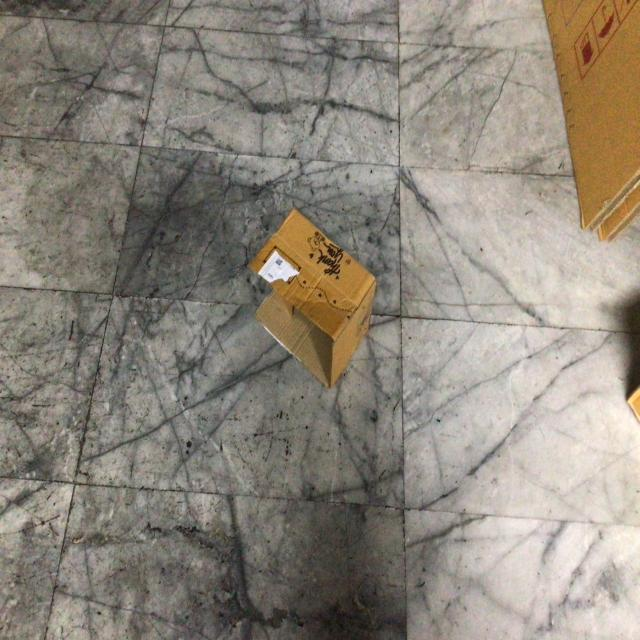cardboard: (249, 207, 376, 390)
